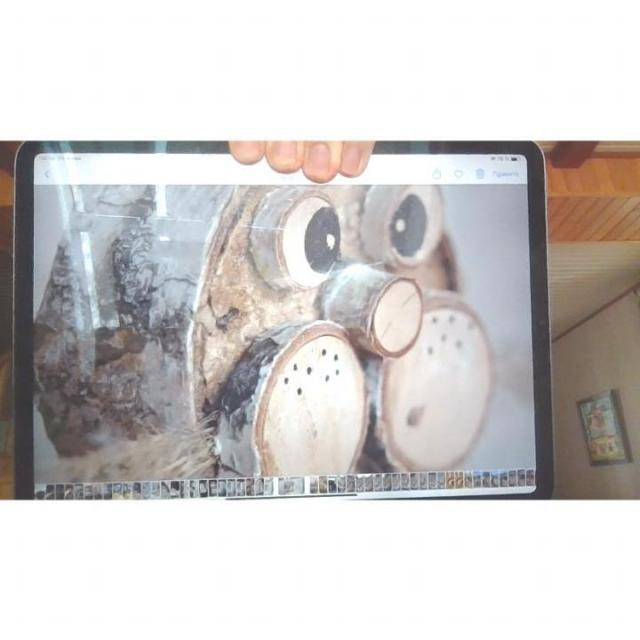device: (12, 140, 550, 498)
